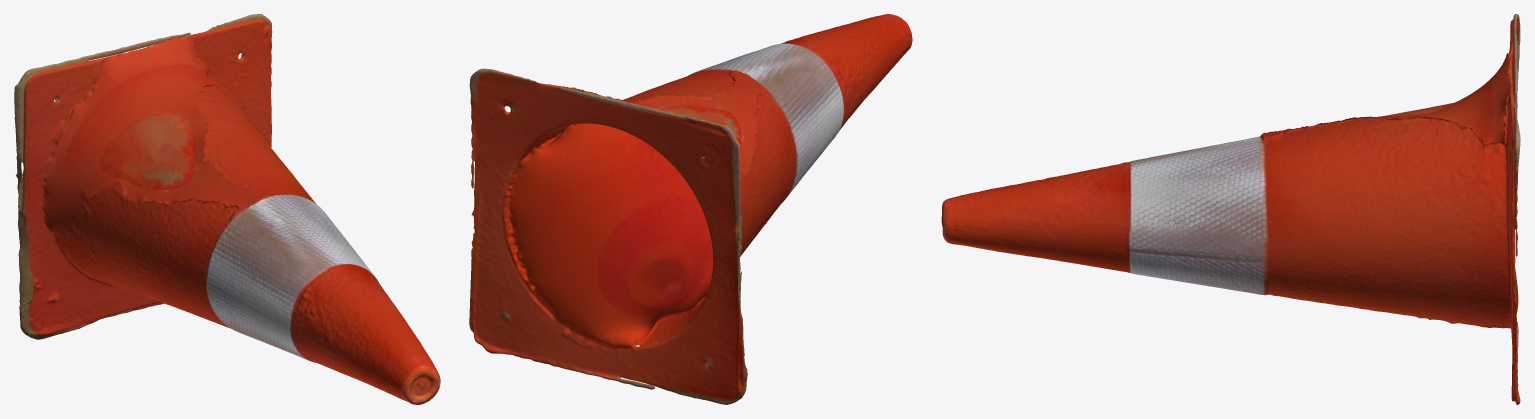
File: traffic_cone.glb
3 views of the same model, side by side, from view 1: azimuth 30°, elevation 25°; view 2: azimuth 150°, elevation 25°; view 3: azimuth 270°, elevation 25° (orthographic). The views are drawn at different scales.
Visible parts, largest first — view 1: trafficcone01; view 2: trafficcone01; view 3: trafficcone01.
Boxes of the visible parts, box(x1,y1,x2,y2) form: trafficcone01: box(14, 14, 440, 404); trafficcone01: box(469, 14, 912, 404); trafficcone01: box(941, 14, 1520, 404).
Size of the model in its own units: 0.2048 by 0.2031 by 0.3835.
1 material, 1 textured.
